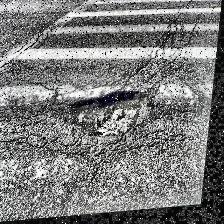pothole: (69, 89, 148, 146)
